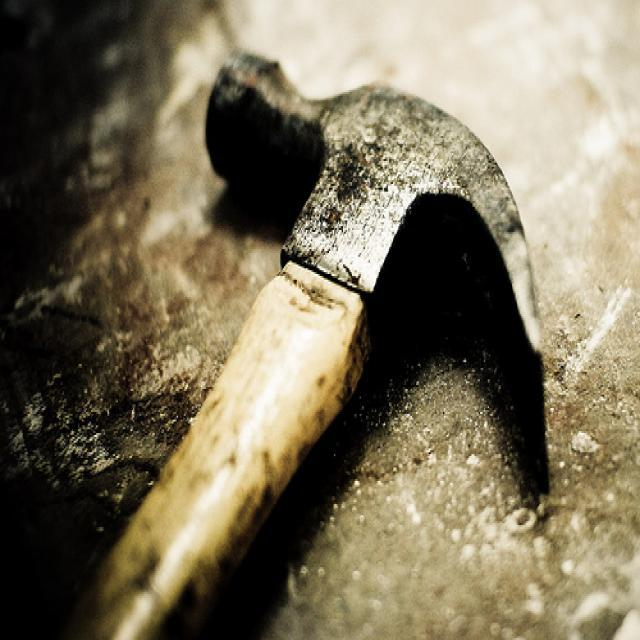hammer: (62, 36, 552, 640)
